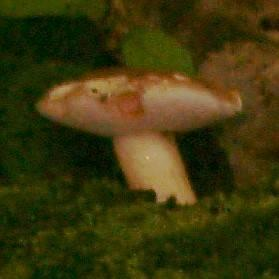Non-edible Mushroom: (34, 65, 242, 207)
